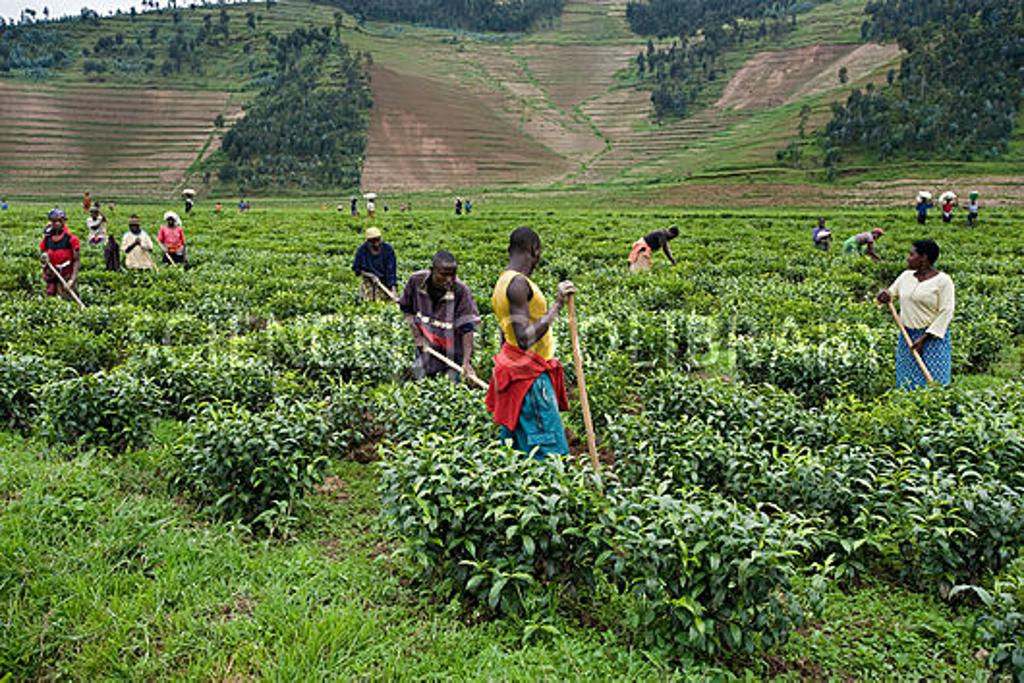face: (434, 262, 456, 289), (906, 245, 923, 268), (367, 236, 380, 249)
